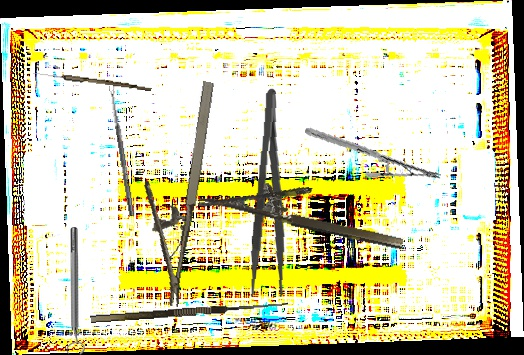Dressing Forceps: (247, 87, 298, 301)
Fixation Ring: (65, 227, 85, 355)
Hook Surgical: (89, 291, 289, 323)
Needle Holder: (122, 73, 222, 308), (197, 164, 411, 252), (304, 106, 442, 201)
Surgical Spoon: (108, 85, 136, 217), (33, 70, 152, 92)
